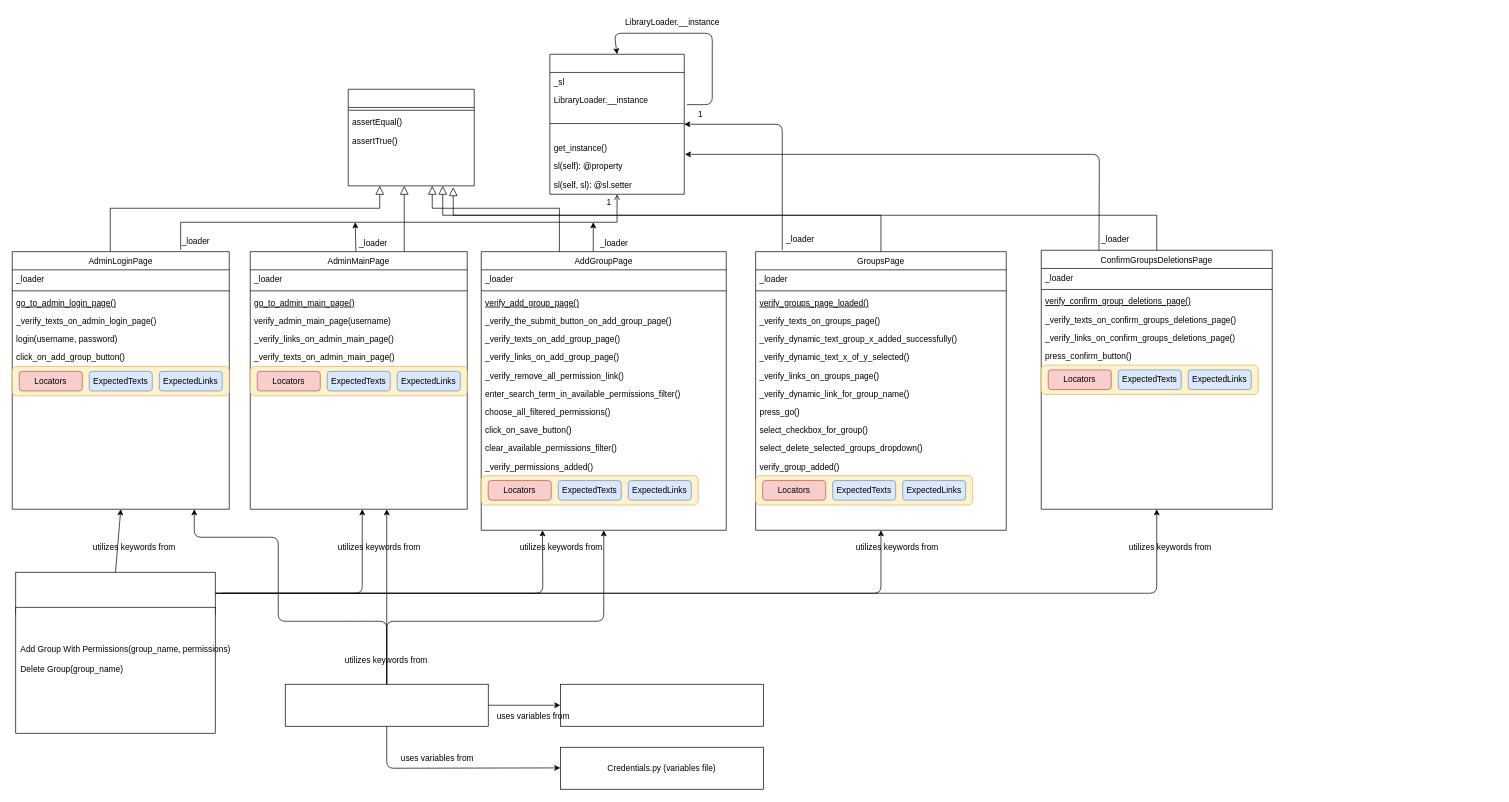
This 1509x802 diagram has some shape labels left out. Each missing label, with the box of its shape:
Common Keywords.robot (resource file): (15, 572, 215, 614)
Common Variables.py (variables file): (560, 684, 763, 726)
DjangoAdminSiteTestSuite.robot: (285, 684, 488, 726)
LibraryLoader (singleton): (549, 54, 684, 194)
unittest.TestCase: (348, 89, 474, 186)
